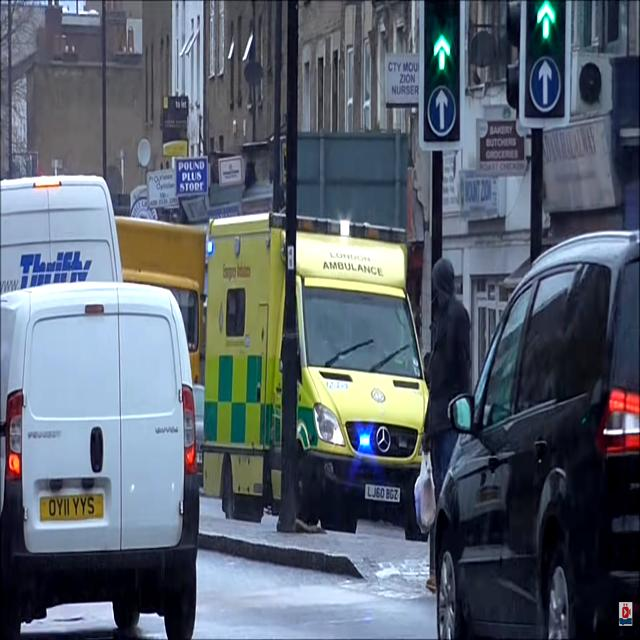emergency-vehicles: (186, 193, 444, 552)
